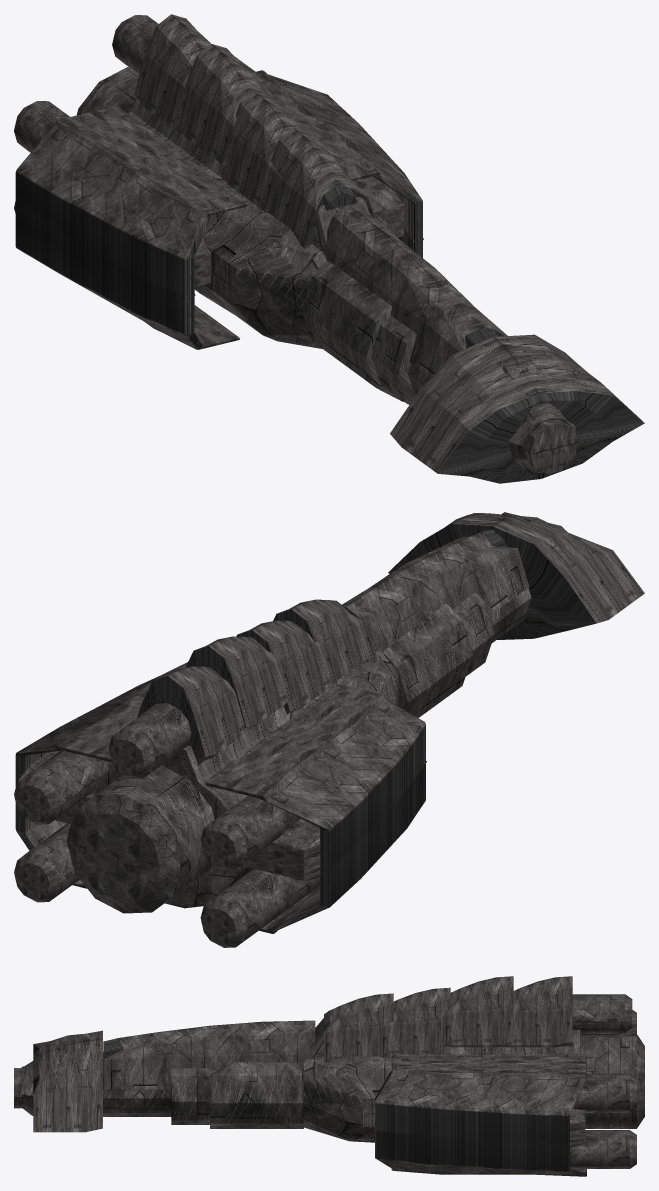
The model's file is PPG.FBX.
3 views of the same model, one above another, from view 1: azimuth 30°, elevation 25°; view 2: azimuth 150°, elevation 25°; view 3: azimuth 270°, elevation 25° (orthographic). The views are drawn at different scales.
Parts seen in each view (by area): view 1: Box001, Cylinder004, rear, Object004, front, Box004, Object003, Object001, Object002, Cylinder005, Cylinder003, Cylinder002 (+5 smaller); view 2: Box001, ChamferCyl004, Cylinder004, Object004, front, rear, Cylinder005, Box004, Object001, ChamferCyl001, ChamferCyl005, ChamferCyl002 (+5 smaller); view 3: Box004, front, Object004, rear, Cylinder004, Object001, Cylinder005, Object002, ChamferCyl004, Object003, ChamferCyl003, ChamferCyl006 (+4 smaller).
Part boxes in pixels (box(x1,y1,x2,y2)): Box001: box(15, 106, 248, 349); Cylinder004: box(390, 334, 644, 483); rear: box(128, 97, 396, 348); Object004: box(322, 204, 507, 377); front: box(301, 260, 429, 404); Box004: box(251, 70, 423, 257); Object003: box(257, 128, 375, 248); Object001: box(174, 44, 268, 166); Object002: box(217, 91, 301, 212); Cylinder005: box(134, 14, 210, 137); Cylinder003: box(525, 418, 578, 474); Cylinder002: box(502, 359, 576, 474); Box001: box(205, 684, 426, 933); ChamferCyl004: box(66, 766, 214, 913); Cylinder004: box(388, 513, 644, 639); Object004: box(342, 529, 529, 652); front: box(382, 587, 531, 717); rear: box(91, 635, 405, 908); Cylinder005: box(137, 666, 253, 764); Box004: box(15, 662, 187, 888); Object001: box(185, 636, 294, 728); ChamferCyl001: box(200, 869, 319, 947); ChamferCyl005: box(14, 750, 113, 824); ChamferCyl002: box(200, 795, 300, 870); Box004: box(375, 1054, 586, 1176); front: box(103, 1052, 303, 1128); Object004: box(103, 1020, 315, 1090); rear: box(304, 1018, 580, 1142); Cylinder004: box(33, 1030, 102, 1132); Object001: box(443, 976, 513, 1047); Cylinder005: box(502, 976, 572, 1047); Object002: box(380, 987, 450, 1057); ChamferCyl004: box(580, 1034, 644, 1128); Object003: box(324, 993, 393, 1062); ChamferCyl003: box(572, 994, 632, 1033); ChamferCyl006: box(570, 1130, 636, 1168).
Size of the model in its own units: 361 by 245 by 867.
1 material, 1 textured.
